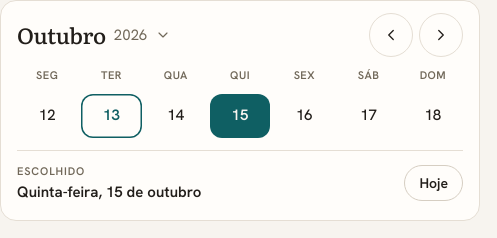
Test case: DatePicker › nasce na semana do valor e devolve a data escolhida em ISO
Click the cell named "Sexta-feira, 16 de outubro" at [304, 115], box x1=296 y1=105 x2=313 y2=125
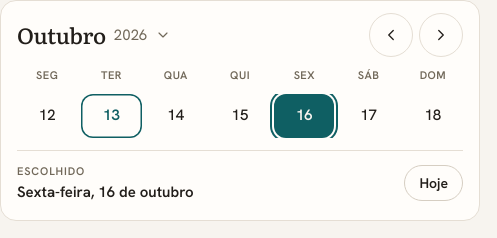
Now the text "Sexta-feira, 16 de outubro" is shown, box x1=17 y1=182 x2=194 y2=202
